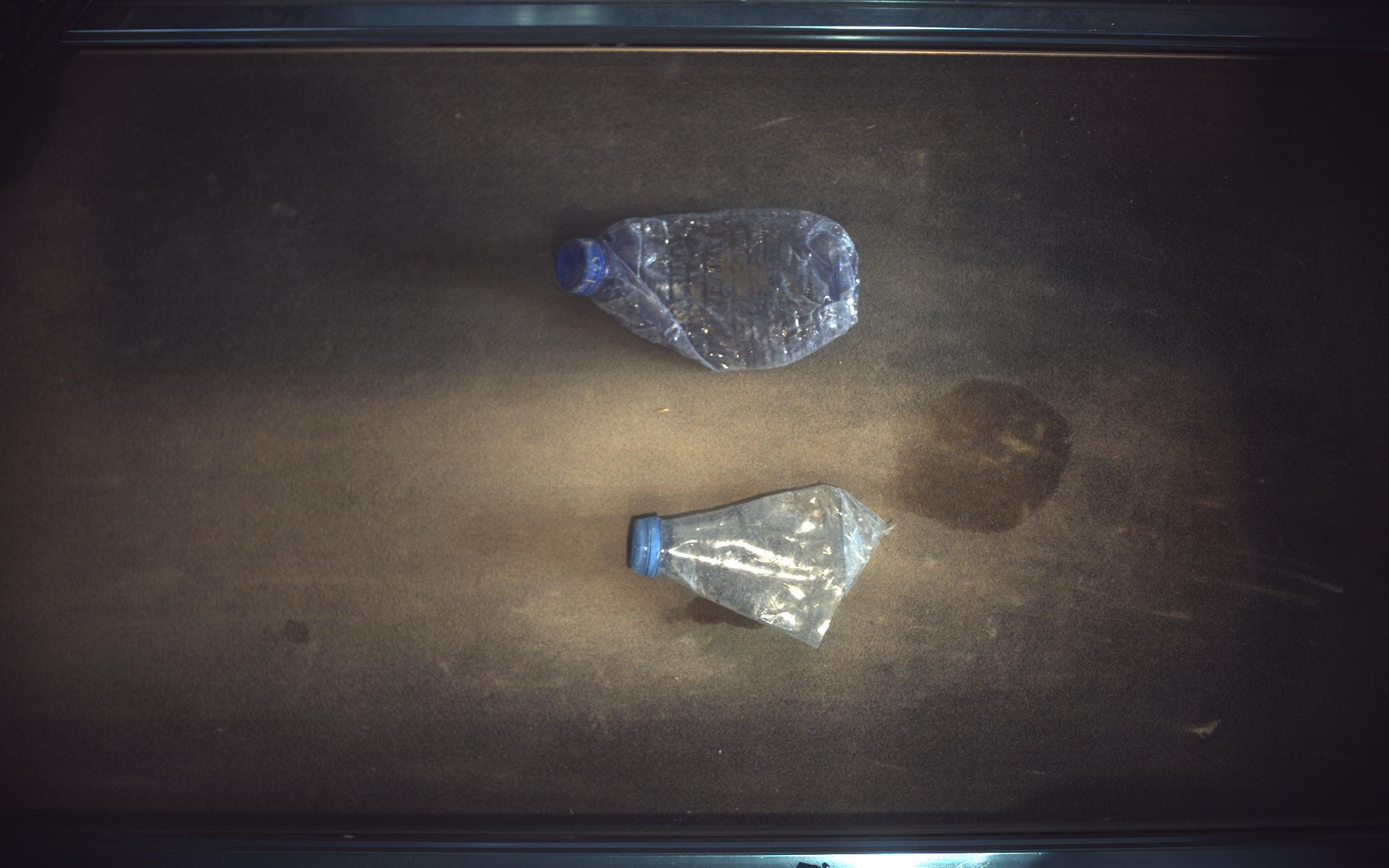general_w: (556, 209, 861, 371), (628, 485, 890, 649)
